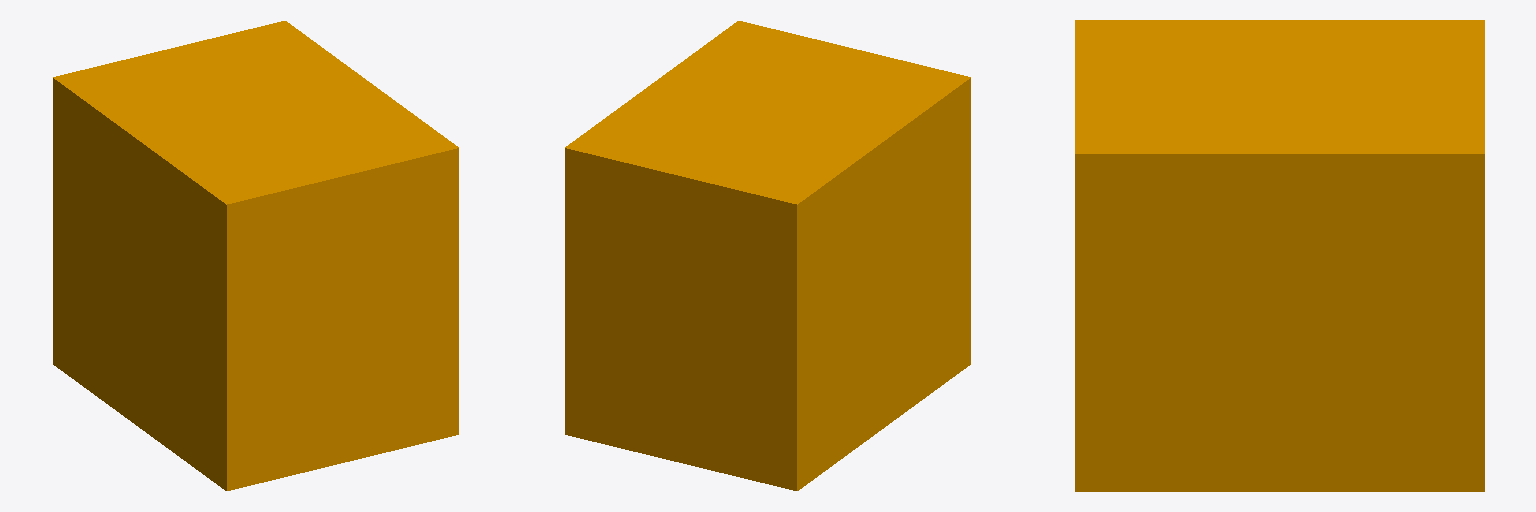
The robot description file, URDF, robot "object":
<robot name="object">
  <link name="object">
    <visual>
      <origin xyz="0 0 0" />
      <geometry>
        <box size="0.068 0.08800000000000002 0.08" />
      </geometry>
    </visual>

    <collision>
      <origin xyz="0 0 0" />
      <geometry>
        <box size="0.068 0.08800000000000002 0.08" />
      </geometry>
    </collision>

    <inertial>
      <mass value="0.05" />
      <inertia ixx="0.0001" ixy="0.0" ixz="0.0" iyy="0.0001" iyz="0.0" izz="0.0001" />
    </inertial>
  </link>
</robot>

--- What the picture shows (computed from the rendered views, not written in the file) ---
Views: 3 orthographic renders of the robot side by side, from view 1: azimuth 30°, elevation 25°; view 2: azimuth 150°, elevation 25°; view 3: azimuth 270°, elevation 25°.
Model object with 1 links and 0 joints (none), rooted at object, posed every joint at zero.
Links seen in each view (by area): view 1: object; view 2: object; view 3: object.
Link boxes in pixels (x1=…): object: x1=53, y1=21, x2=458, y2=490; object: x1=565, y1=21, x2=970, y2=490; object: x1=1075, y1=20, x2=1484, y2=491.
Size in the robot's own frame: 0.068 by 0.088 by 0.08 metres.
Geometry: primitives only (box / cylinder / sphere), no mesh files.